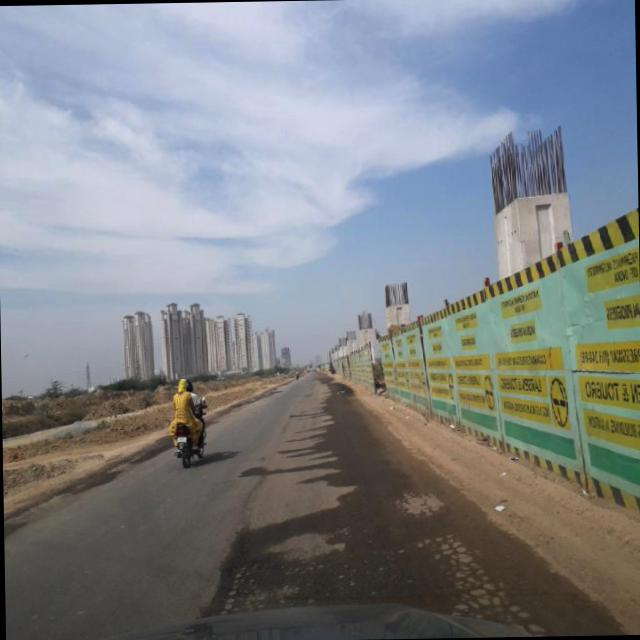crack: (217, 472, 534, 605)
pothole: (205, 404, 298, 608)
